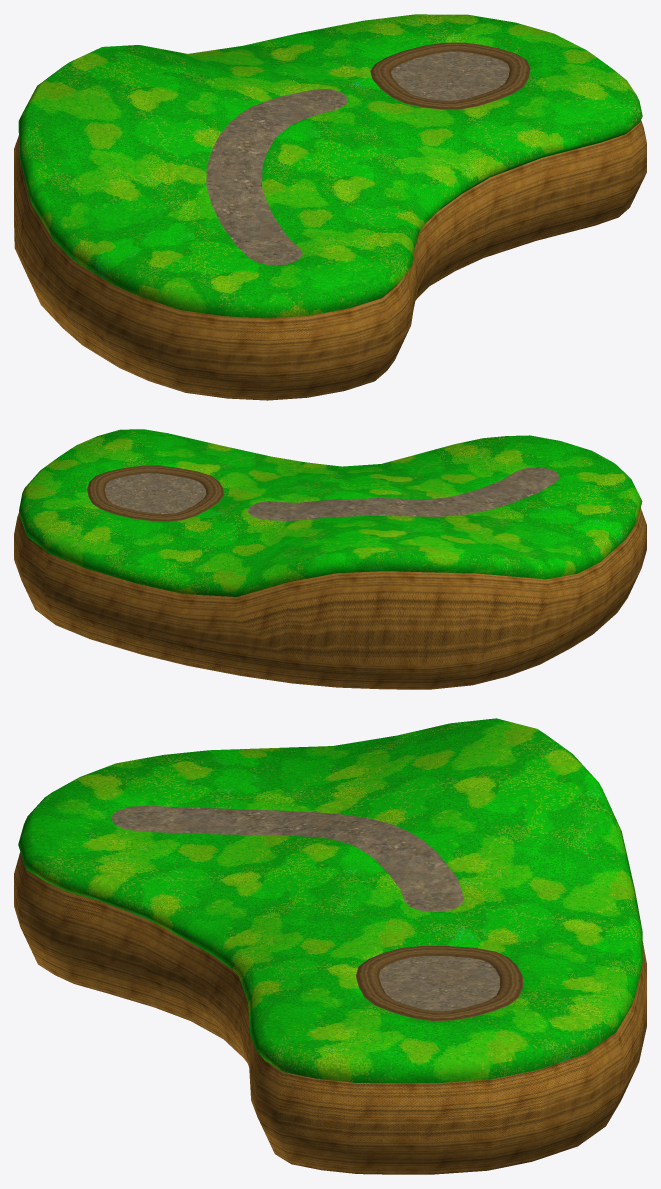
Rendered from YoshiHighlandBPlanet.fbx.
3 views of the same model, one above another, from view 1: azimuth 30°, elevation 25°; view 2: azimuth 150°, elevation 25°; view 3: azimuth 270°, elevation 25° (orthographic). The views are drawn at different scales.
Visible parts, largest first — view 1: Plane, Plane.001, Plane.002, Plane.003; view 2: Plane, Plane.001, Plane.002, Plane.003; view 3: Plane, Plane.001, Plane.002, Plane.003.
Part boxes in pixels (x1=…): Plane: x1=18, y1=14, x2=642, y2=318; Plane.001: x1=14, y1=120, x2=646, y2=400; Plane.002: x1=206, y1=51, x2=509, y2=265; Plane.003: x1=370, y1=42, x2=530, y2=109; Plane: x1=19, y1=429, x2=642, y2=596; Plane.001: x1=14, y1=508, x2=646, y2=689; Plane.002: x1=105, y1=467, x2=559, y2=521; Plane.003: x1=87, y1=465, x2=223, y2=521; Plane: x1=18, y1=718, x2=642, y2=1083; Plane.001: x1=14, y1=852, x2=646, y2=1174; Plane.002: x1=111, y1=805, x2=500, y2=1011; Plane.003: x1=356, y1=946, x2=523, y2=1021.
Bounding box in the file's own units: 227685 × 64048 × 187639.
